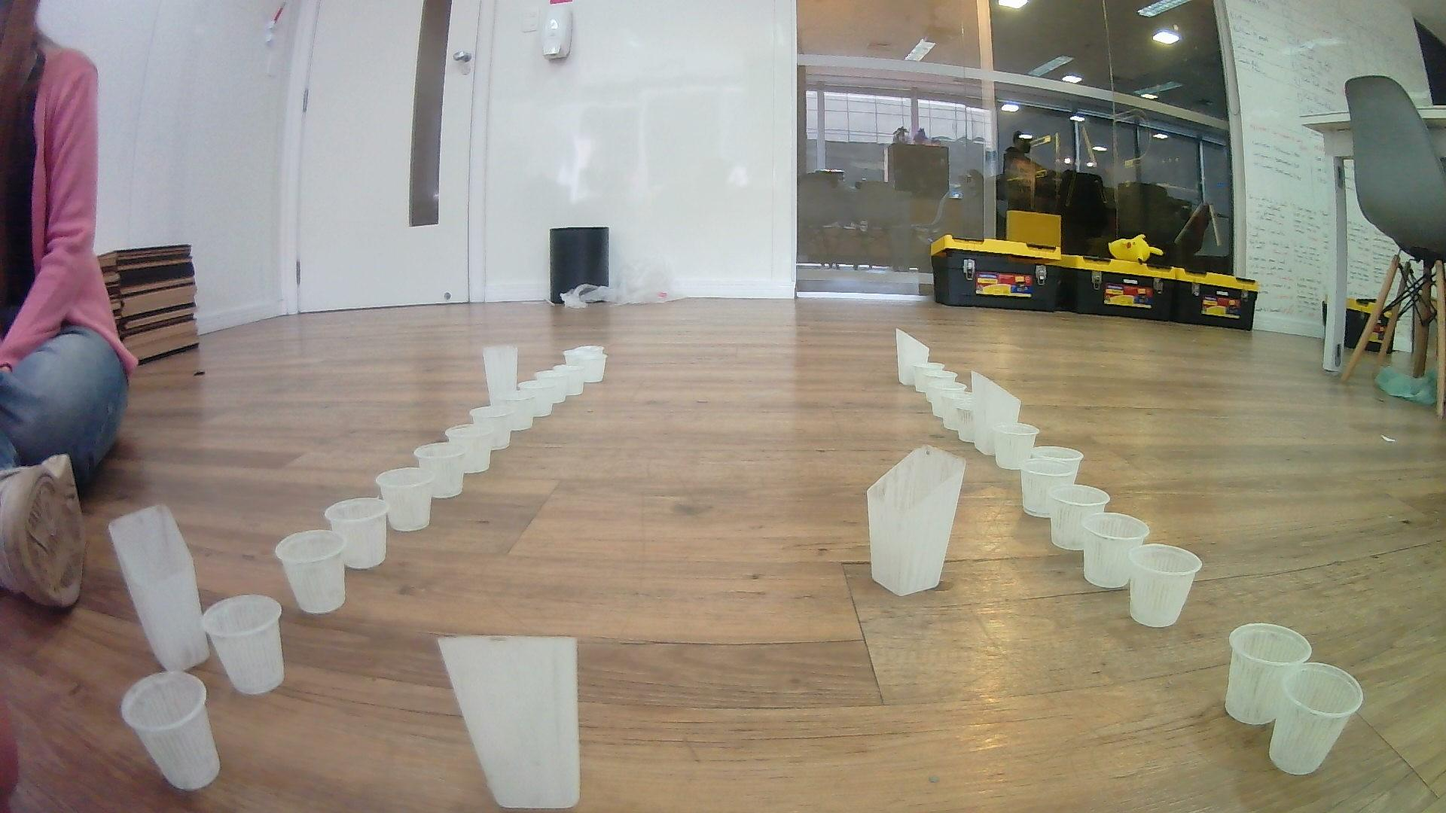erva_daninha: (437, 634, 583, 811), (106, 502, 211, 673), (866, 443, 968, 598), (970, 371, 1021, 455), (483, 343, 520, 408), (895, 327, 929, 387)
planta: (119, 670, 222, 792), (1268, 662, 1366, 776), (1224, 623, 1313, 726), (203, 594, 285, 696), (1127, 544, 1203, 629), (276, 530, 349, 614), (1081, 513, 1149, 589), (325, 497, 389, 570), (1049, 484, 1112, 551), (377, 467, 436, 532), (1020, 458, 1077, 518), (414, 443, 465, 499), (993, 423, 1041, 471), (445, 423, 491, 473), (1033, 446, 1084, 488), (469, 406, 511, 450), (563, 346, 609, 382), (493, 391, 533, 431), (929, 382, 971, 419), (516, 380, 553, 417), (908, 361, 945, 395), (941, 394, 974, 432), (924, 370, 959, 403), (535, 370, 568, 404), (554, 362, 585, 396), (957, 404, 977, 443)
